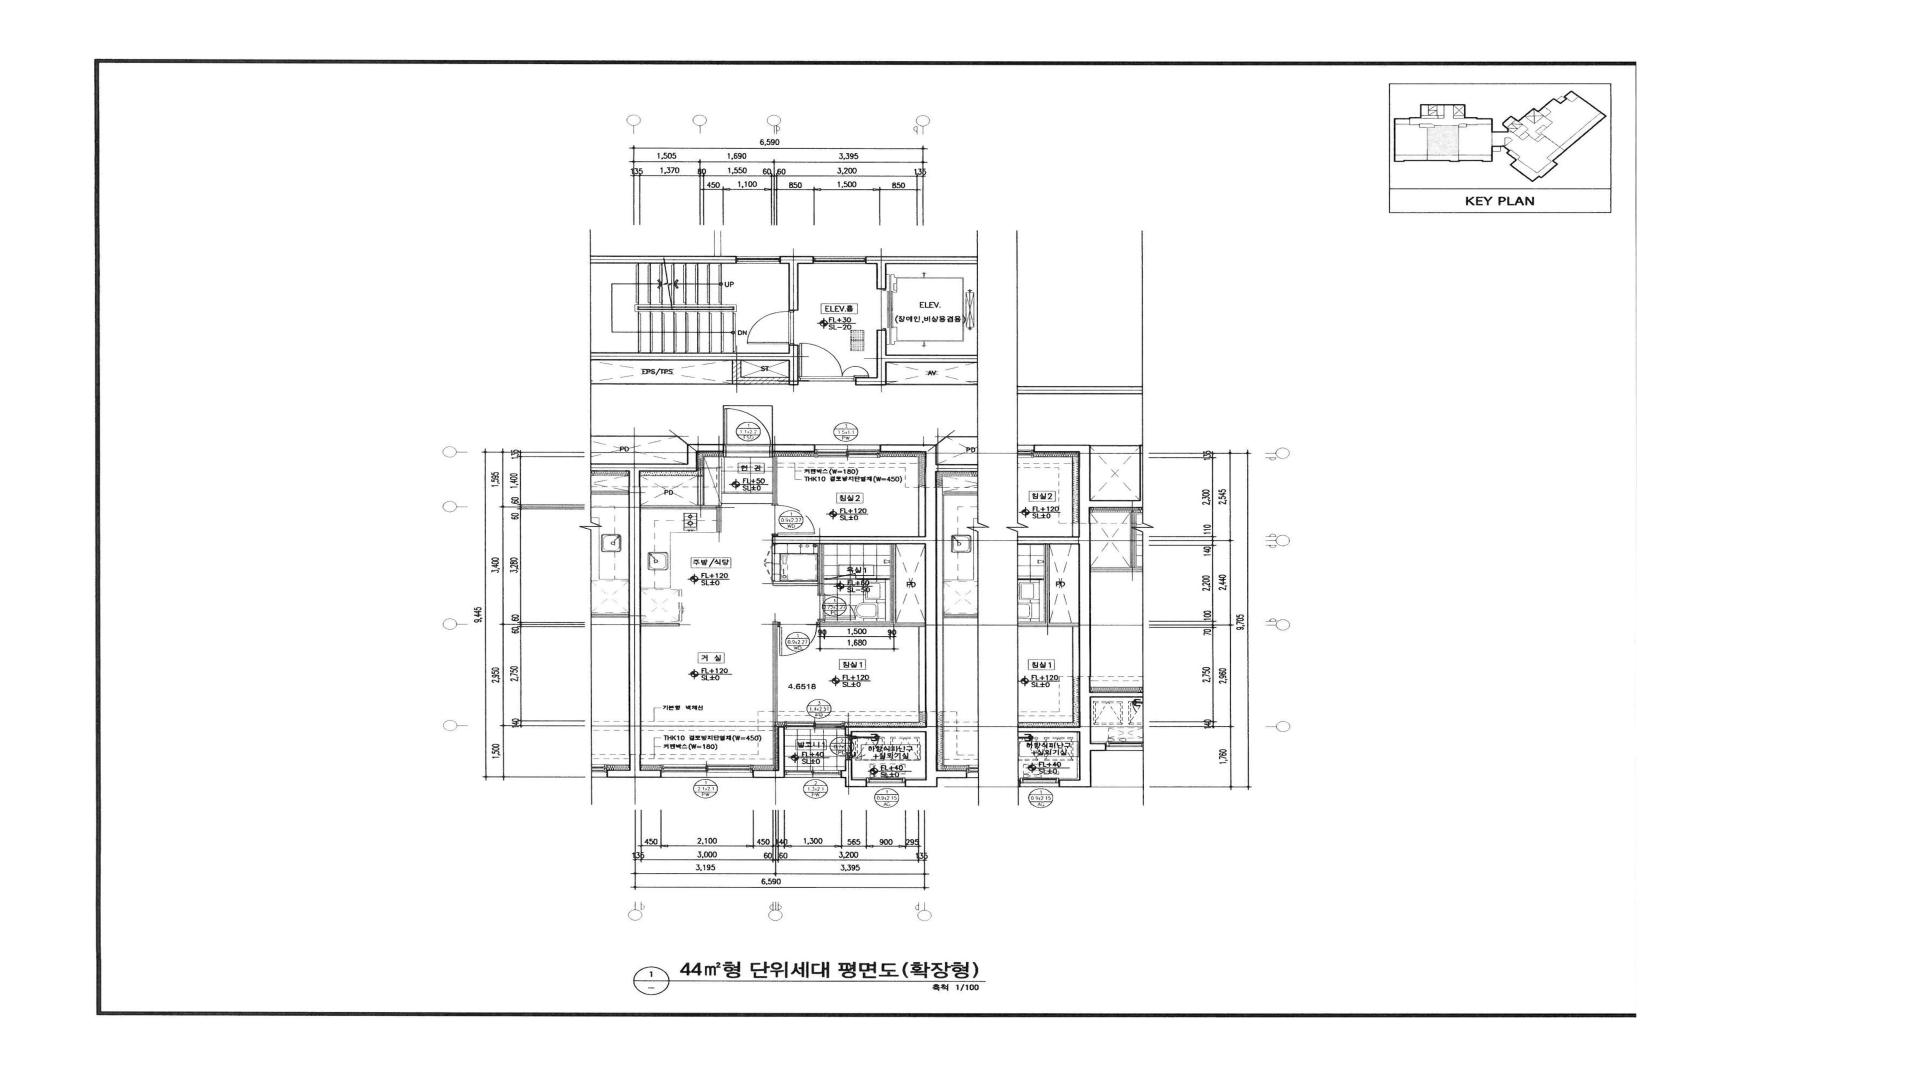door: (799, 342, 856, 382), (723, 407, 772, 452), (743, 310, 795, 344), (777, 623, 819, 657), (771, 504, 814, 536), (818, 594, 856, 622), (846, 736, 881, 760)
wall: (771, 444, 937, 788), (628, 444, 724, 778), (818, 545, 925, 627), (590, 344, 799, 385), (856, 330, 978, 385), (640, 476, 721, 533), (865, 256, 978, 289), (772, 545, 825, 594), (780, 256, 814, 310), (752, 726, 785, 778), (731, 360, 788, 385), (590, 255, 736, 264), (840, 760, 867, 788), (772, 621, 778, 723), (772, 444, 814, 452), (772, 456, 777, 504), (641, 623, 680, 627)
window: (661, 764, 752, 778), (814, 444, 879, 458), (785, 770, 842, 779), (784, 722, 845, 730), (814, 256, 866, 264), (866, 778, 906, 788), (737, 256, 780, 264)
